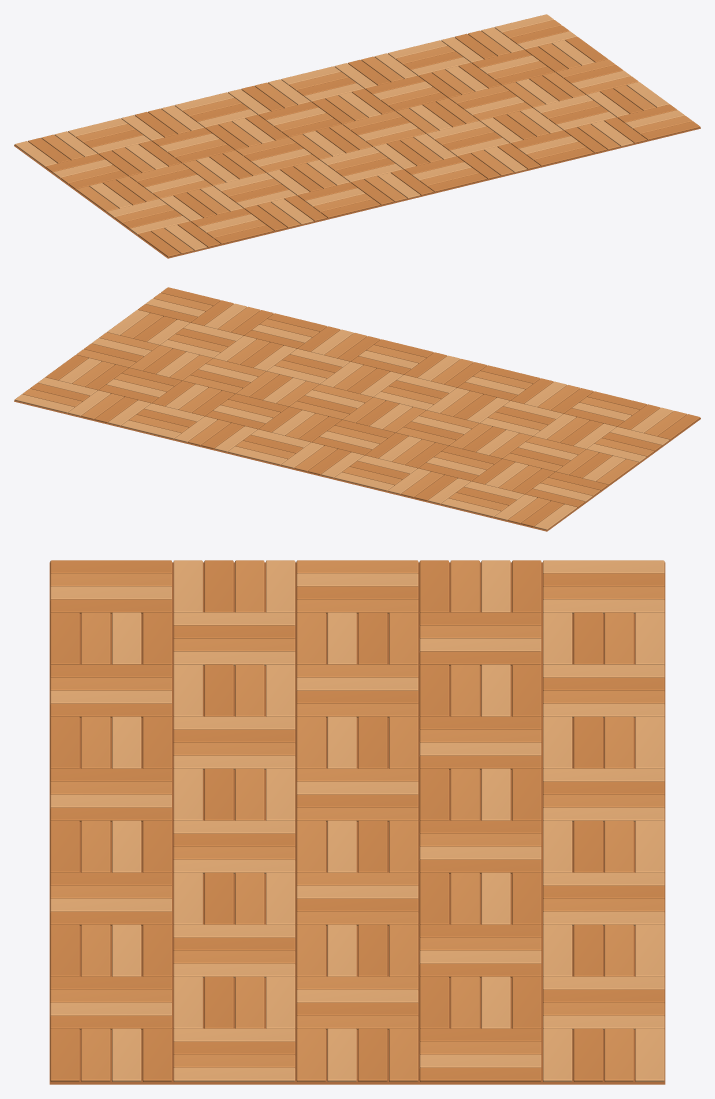
Rendered from UnitCFloor.fbx.
3 renders of one model, top to bottom at view 1: azimuth 30°, elevation 25°; view 2: azimuth 150°, elevation 25°; view 3: azimuth 270°, elevation 25°, orthographic. The views are drawn at different scales.
Visible parts, largest first — view 1: UnitCFloor mesh; view 2: UnitCFloor mesh; view 3: UnitCFloor mesh.
Boxes of the visible parts, x1,y1,x2,y2 form: UnitCFloor mesh: (14,14,700,258); UnitCFloor mesh: (14,287,700,531); UnitCFloor mesh: (49,560,665,1084).
Bounding box in the file's own units: 12.5 × 0.05 × 6.25.
